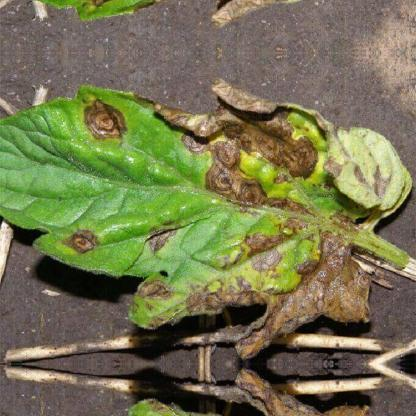Early-Blight: (48, 76, 414, 360)
